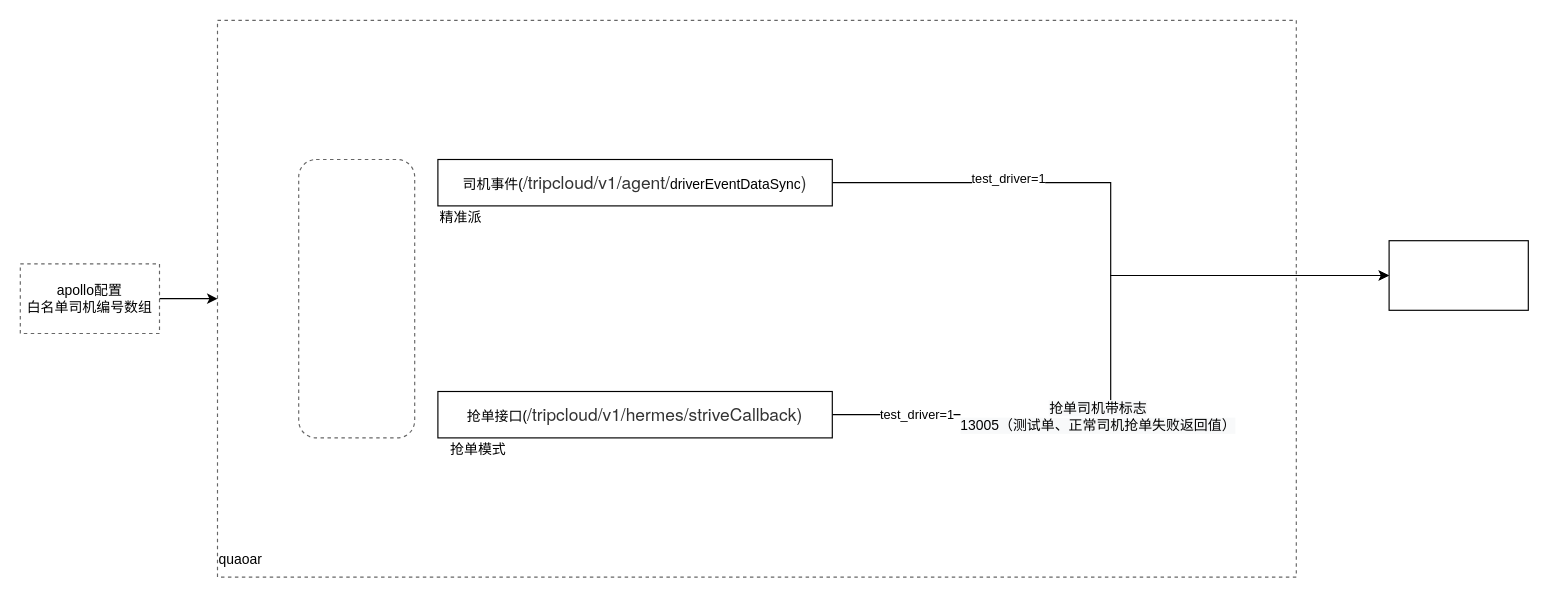
The diagram is 1549 pixels wide and 597 high, and some of its shapes have lost their labels. The shapes that lost their labels are listed below. From the top down, each one's box as (x1, y1, x2, y2) in pixels, then its label:
(1388, 240, 1528, 310): DD
(298, 158, 415, 438): 匹配白名单列表 set test_driver值
